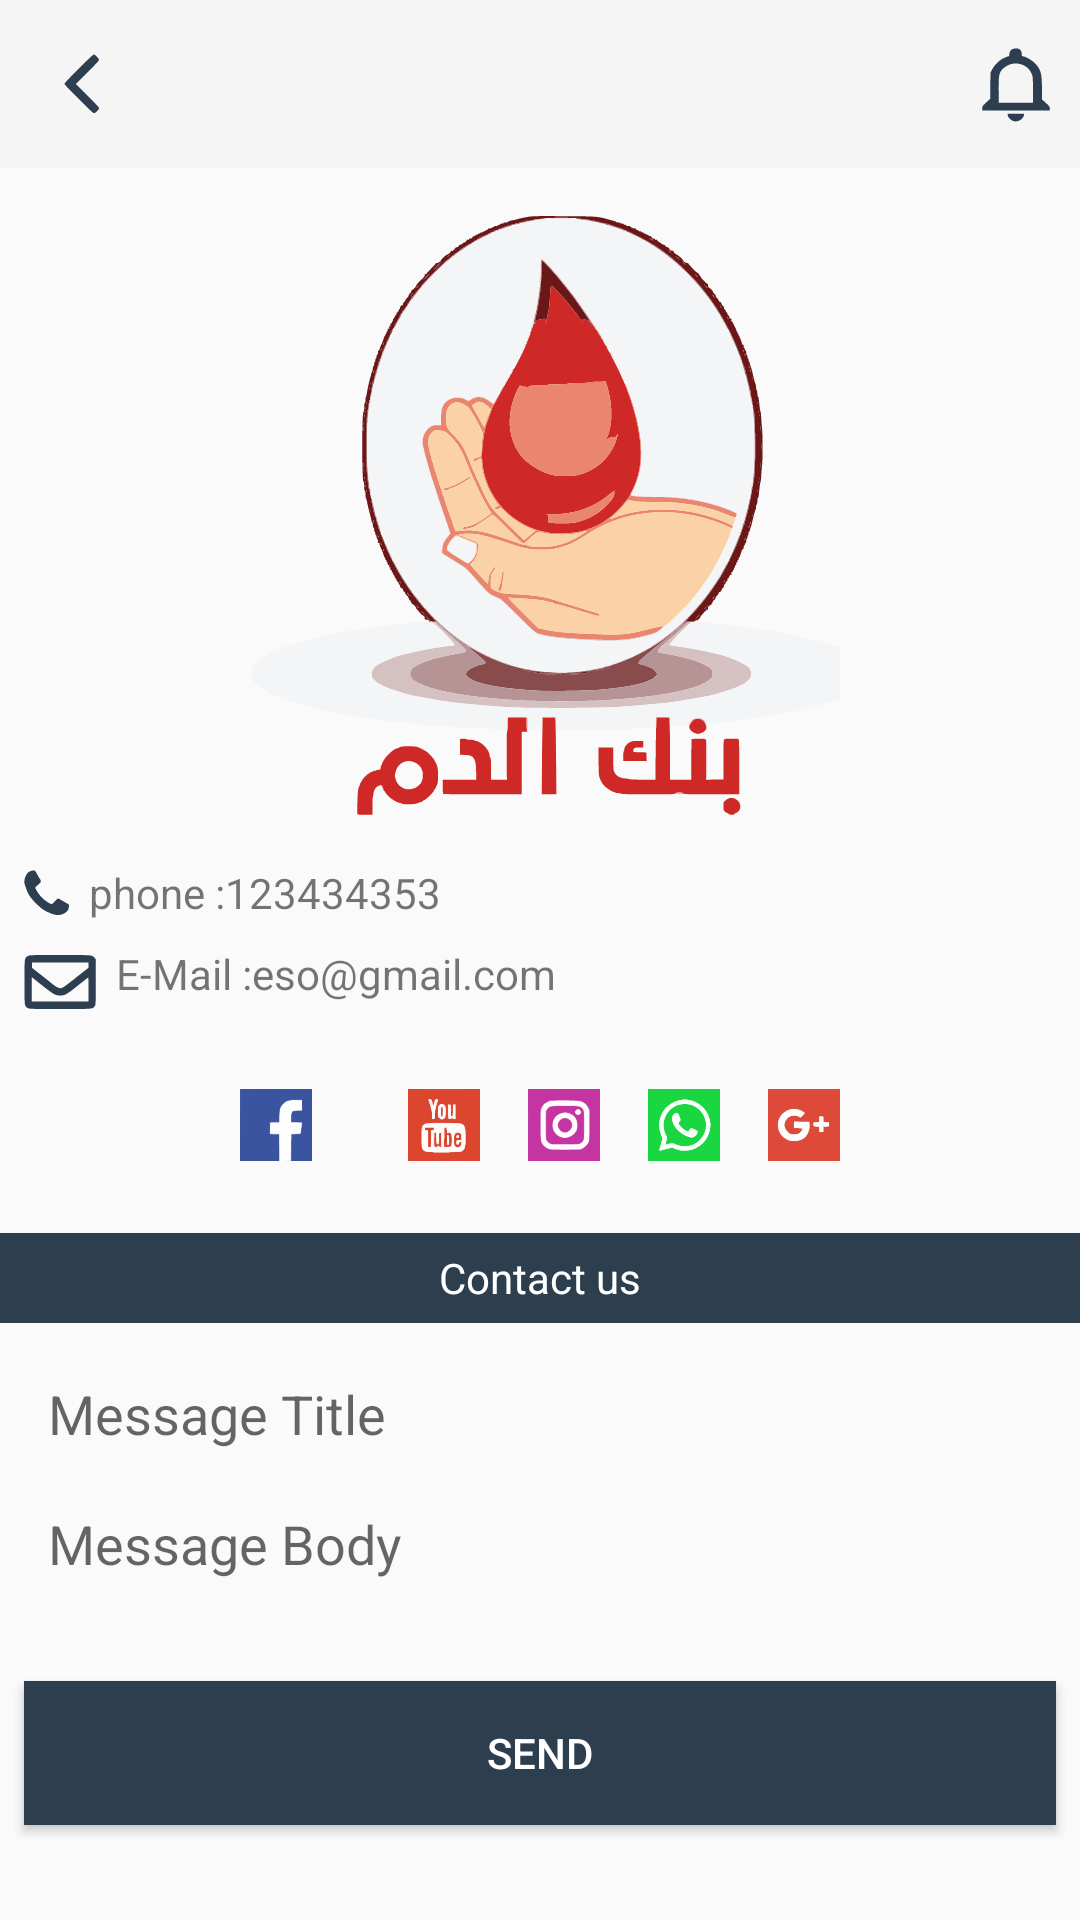

Screen size 1080×1920. Icon name, then its center in pixels as [x,y]:
leftarrow: [81,83]
notfications: [1016,85]
